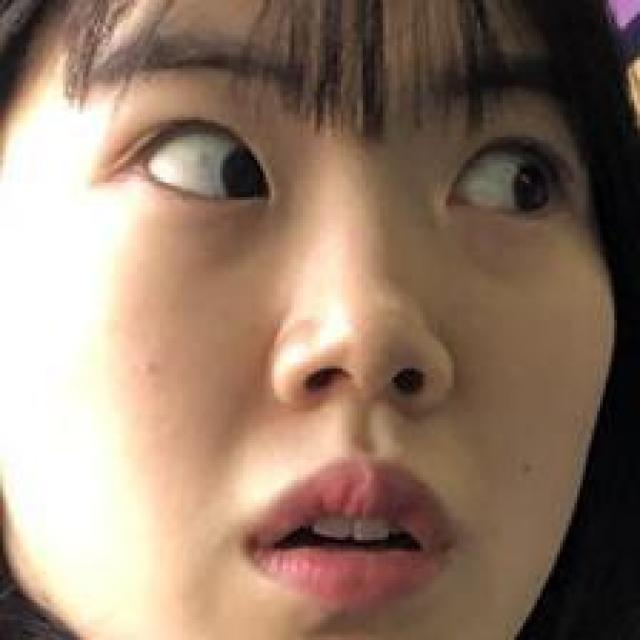fear: (97, 20, 577, 640)
